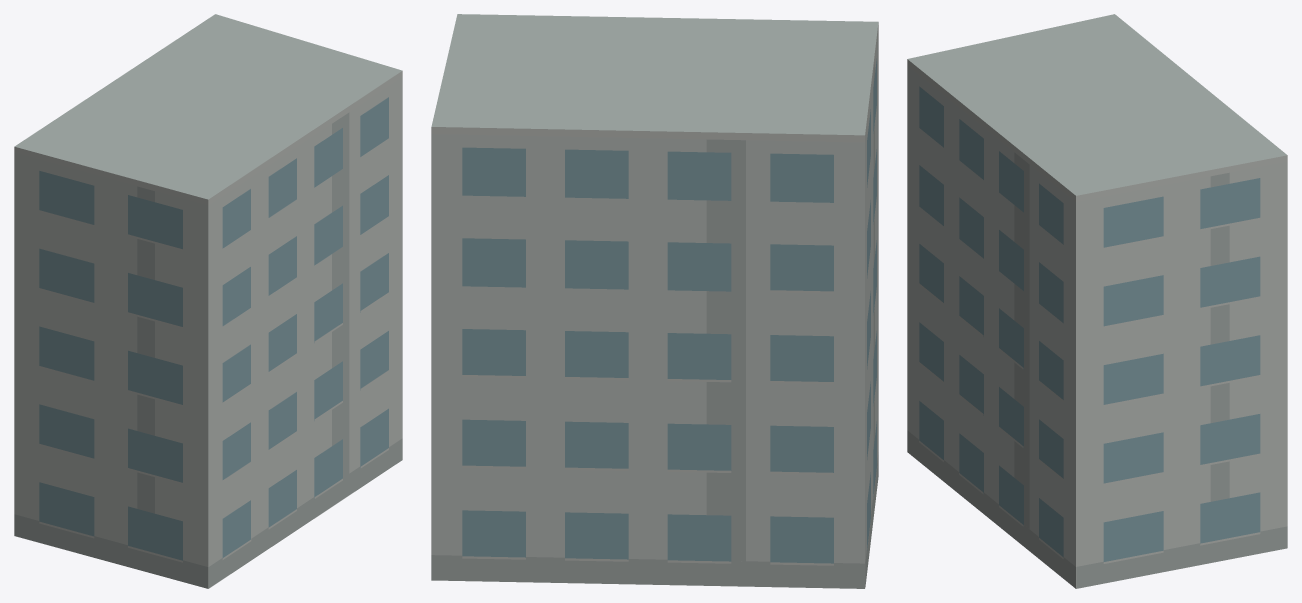
Rendered from survey-upis-32800212.glb.
3 renders of one model, left to right at view 1: azimuth 30°, elevation 25°; view 2: azimuth 150°, elevation 25°; view 3: azimuth 270°, elevation 25°, orthographic. The views are drawn at different scales.
Parts seen in each view (by area): view 1: survey-upis-32800212.tmp; view 2: survey-upis-32800212.tmp; view 3: survey-upis-32800212.tmp.
Boxes of the visible parts, x1,y1,x2,y2 form: survey-upis-32800212.tmp: [14, 14, 402, 588]; survey-upis-32800212.tmp: [431, 14, 878, 588]; survey-upis-32800212.tmp: [907, 14, 1287, 588].
Size of the model in its own units: 15.14 by 15.25 by 13.39.
